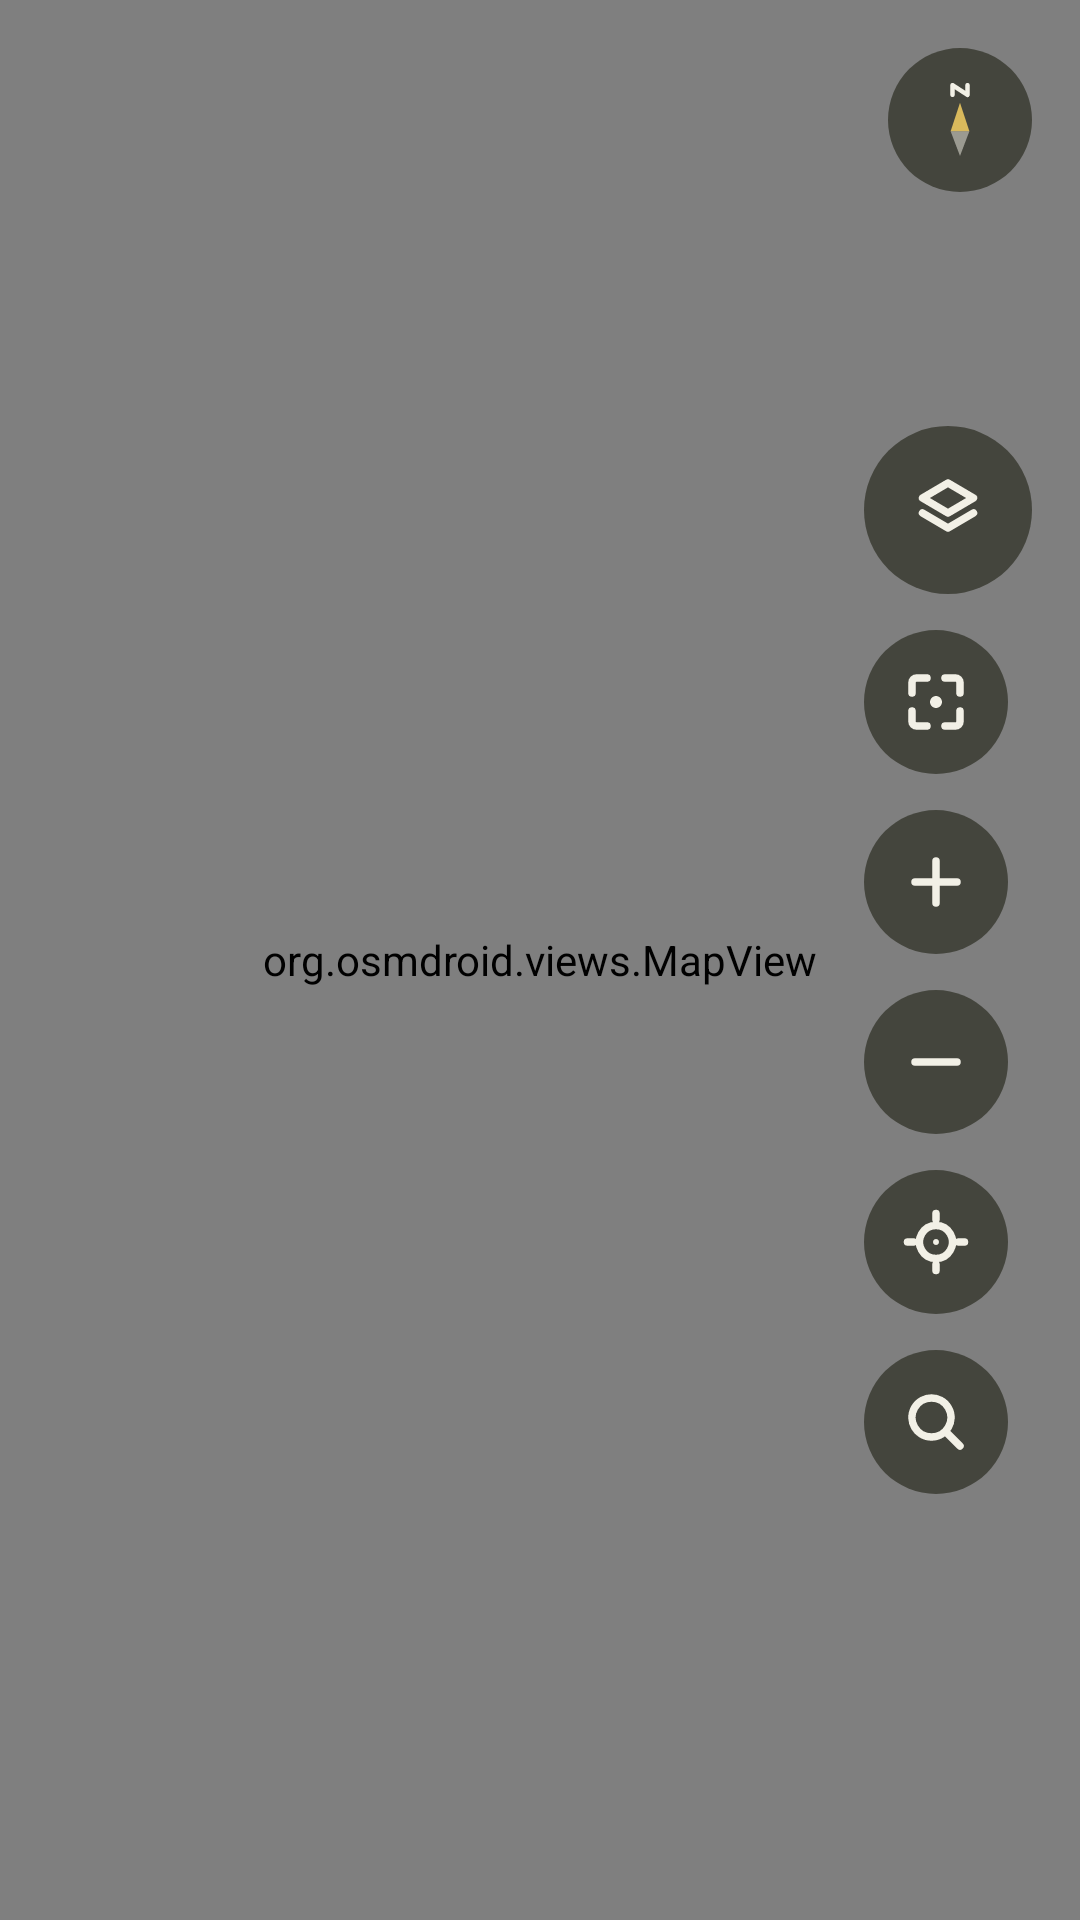

Icon click points for this 1080 × 1920 phone screenshot, format (x=x, y=y):
回到边合区全貌: (x=936, y=702)
定位: (x=936, y=1242)
指北针（正北方向）: (x=960, y=120)
搜索企业: (x=936, y=1422)
放大: (x=936, y=882)
显示控制（协作区项目 / 园区项目 / 规上企业）: (x=948, y=510)
缩小: (x=936, y=1062)
